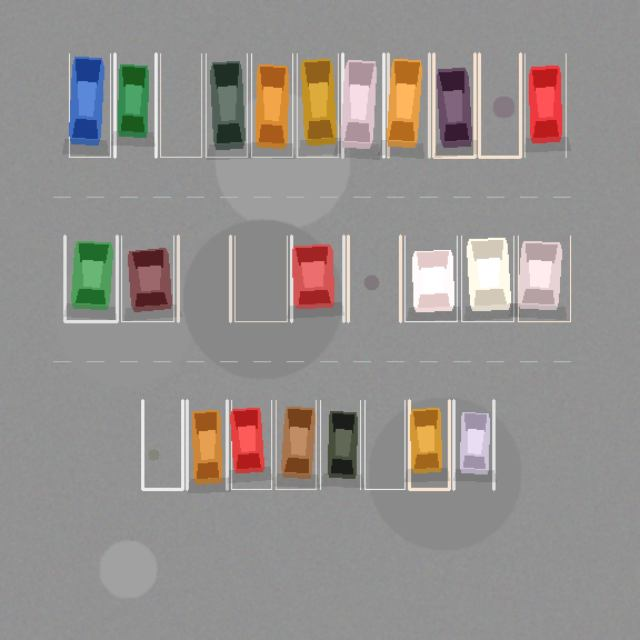space-empty: (234, 236, 287, 321), (178, 236, 230, 321), (348, 236, 400, 321), (160, 53, 201, 157), (479, 53, 520, 157), (142, 400, 182, 489), (364, 400, 404, 489)
space-occupied: (64, 236, 117, 321), (404, 236, 457, 321), (121, 236, 173, 321), (291, 236, 343, 321), (461, 236, 513, 321), (518, 236, 570, 321), (114, 53, 156, 157), (524, 53, 566, 157), (69, 53, 110, 157), (206, 53, 247, 157), (251, 53, 292, 157), (297, 53, 338, 157), (342, 53, 383, 157), (388, 53, 429, 157), (433, 53, 474, 157), (187, 400, 227, 489), (231, 400, 271, 489), (276, 400, 316, 489), (320, 400, 360, 489), (409, 400, 449, 489), (453, 400, 493, 489)
